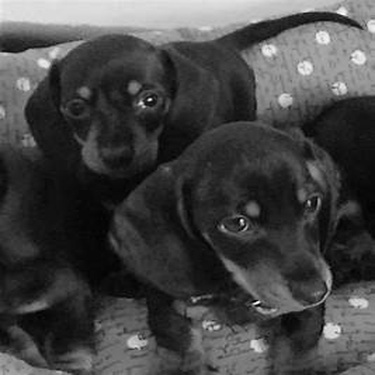dog: (19, 3, 365, 300), (101, 86, 369, 373), (3, 120, 129, 371)
